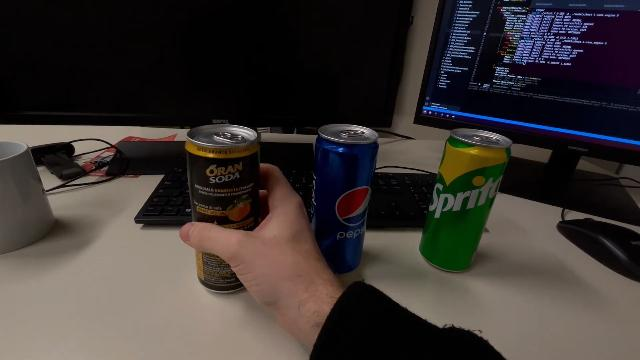OranSoda: (182, 122, 262, 296)
Pepsi: (308, 122, 382, 276)
Sprite: (419, 127, 513, 276)
